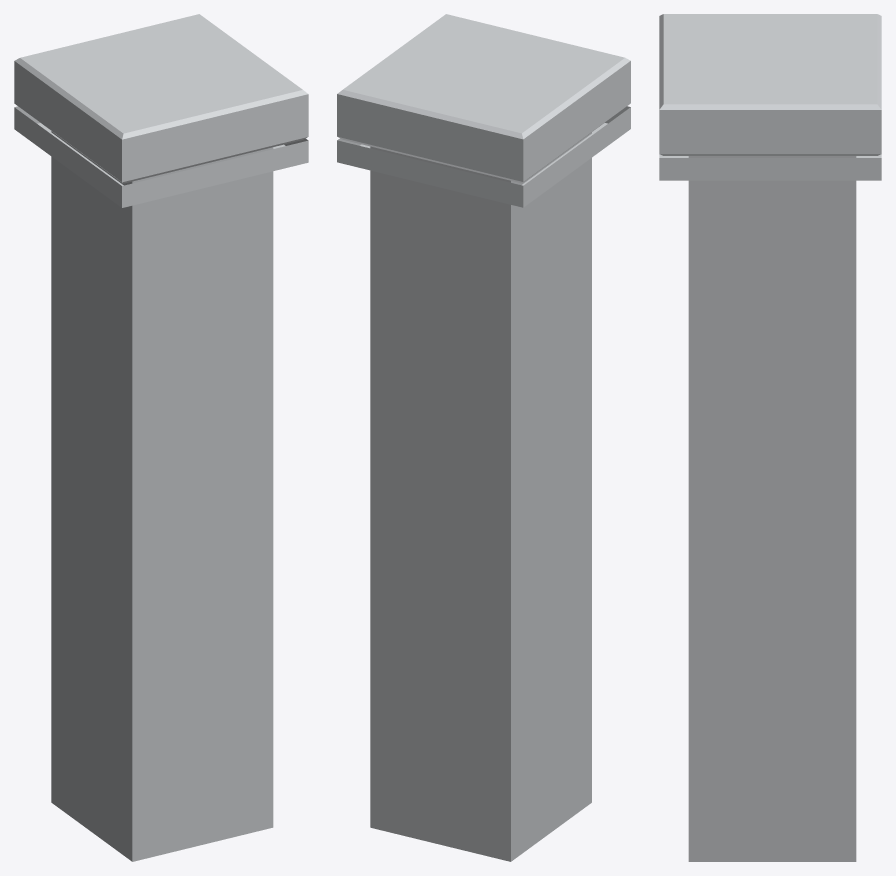
Rendered from SC_Bld_Store_Parapet_Corner.gltf.
The picture shows the model from 3 angles, left to right: view 1: azimuth 30°, elevation 25°; view 2: azimuth 150°, elevation 25°; view 3: azimuth 270°, elevation 25°; orthographic projection. The views are drawn at different scales.
Parts seen in each view (by area): view 1: SC_Bld_Store_Parapet_Corner; view 2: SC_Bld_Store_Parapet_Corner; view 3: SC_Bld_Store_Parapet_Corner.
Part boxes in pixels (<box>): SC_Bld_Store_Parapet_Corner: <box>14,14,308,861</box>; SC_Bld_Store_Parapet_Corner: <box>337,14,630,861</box>; SC_Bld_Store_Parapet_Corner: <box>659,14,881,861</box>.
Bounding box in the file's own units: 0.265 × 1.01 × 0.265.
1 material, 1 textured.
